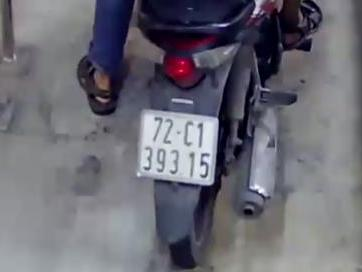num_plate: (138, 108, 221, 190)
